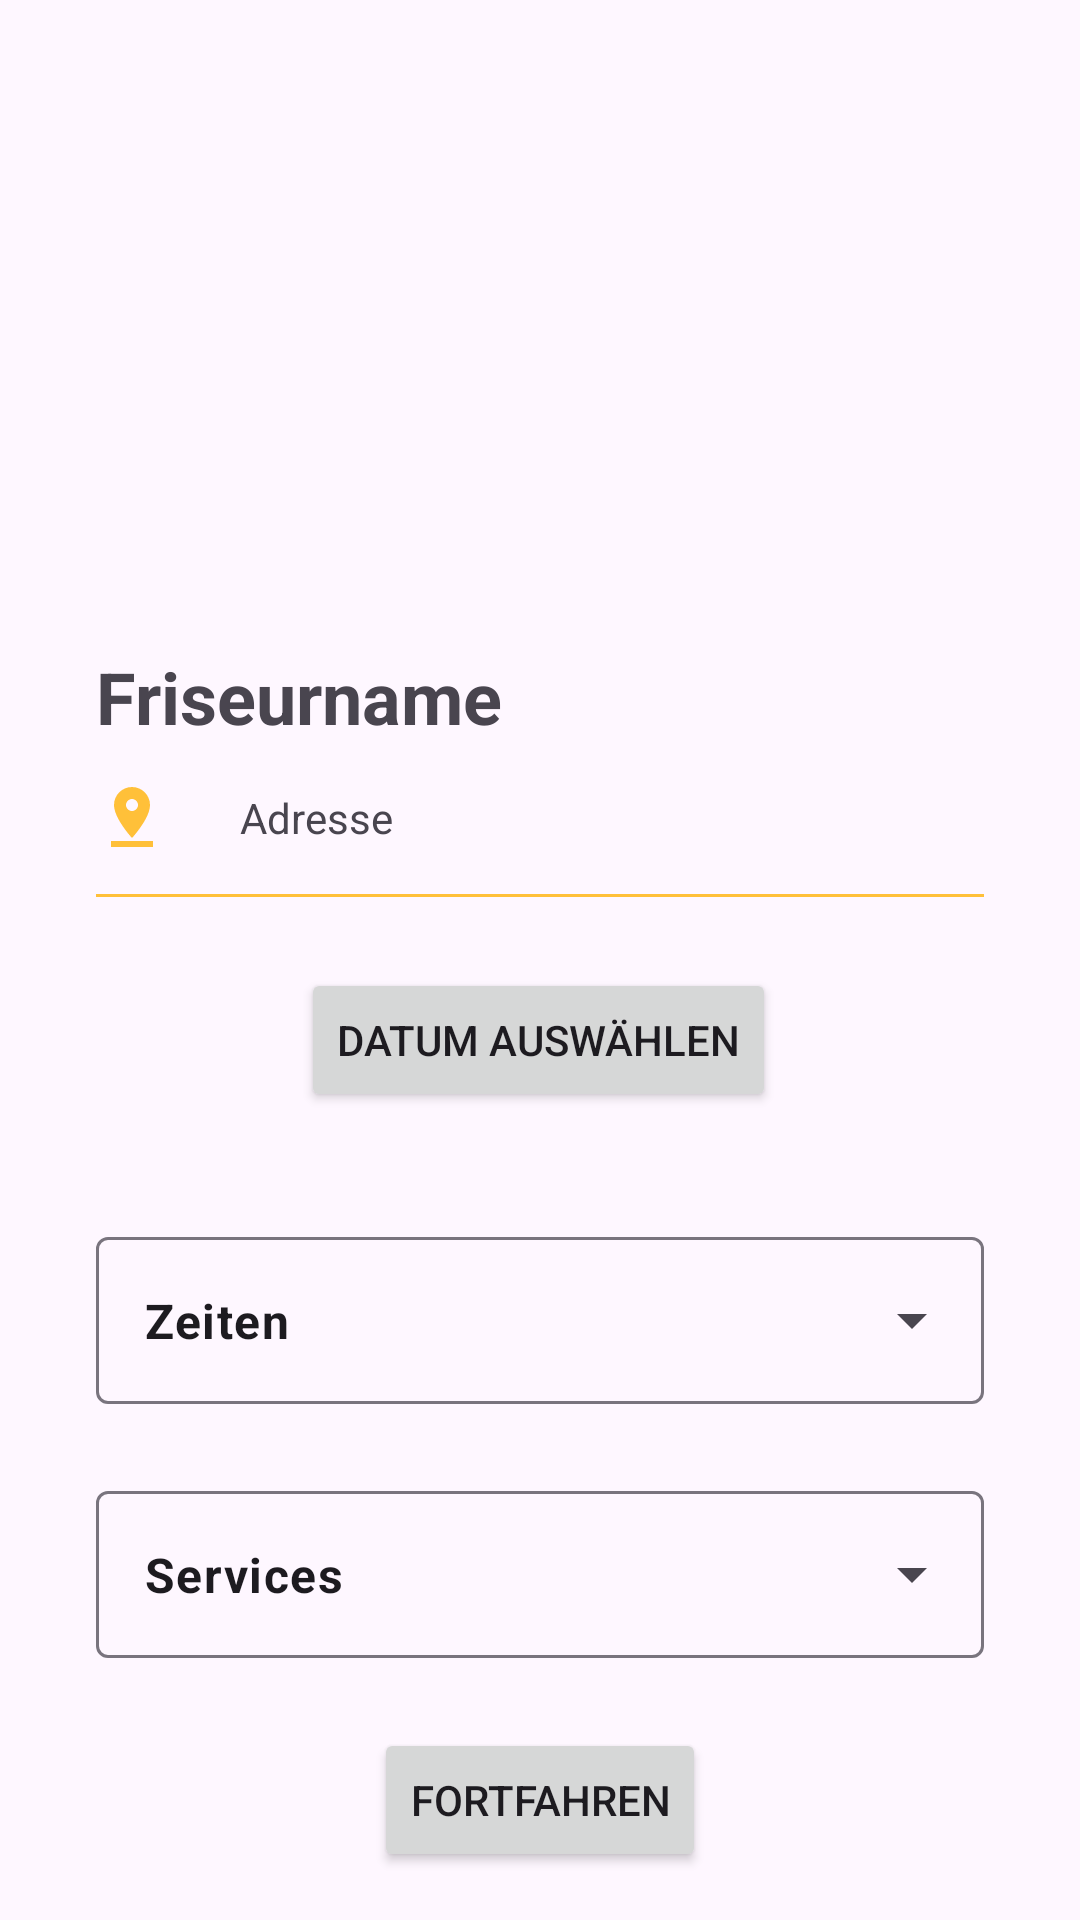

Named icons in this screenshot (1080px x 1920px) and their bounding boxes, (x1, y1, x2, y2):
pin drop: (111, 787, 153, 847)
